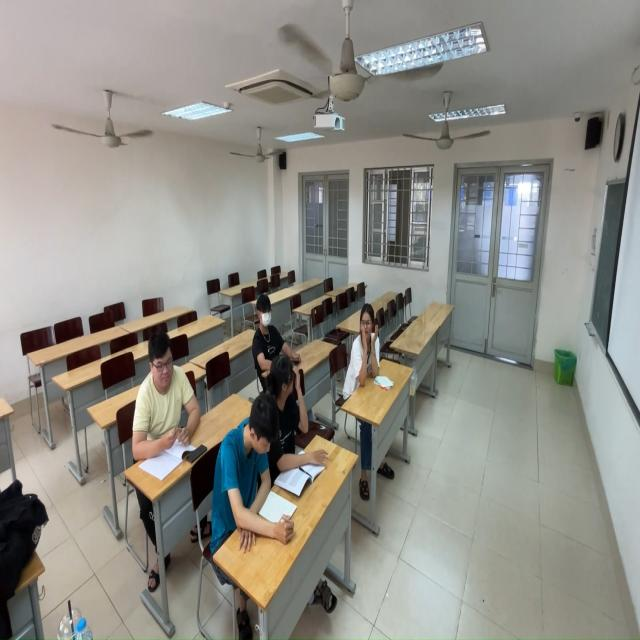raise_hand: (260, 352, 312, 485), (343, 288, 393, 403)
read: (133, 306, 199, 469), (214, 380, 277, 545), (252, 287, 290, 377)
